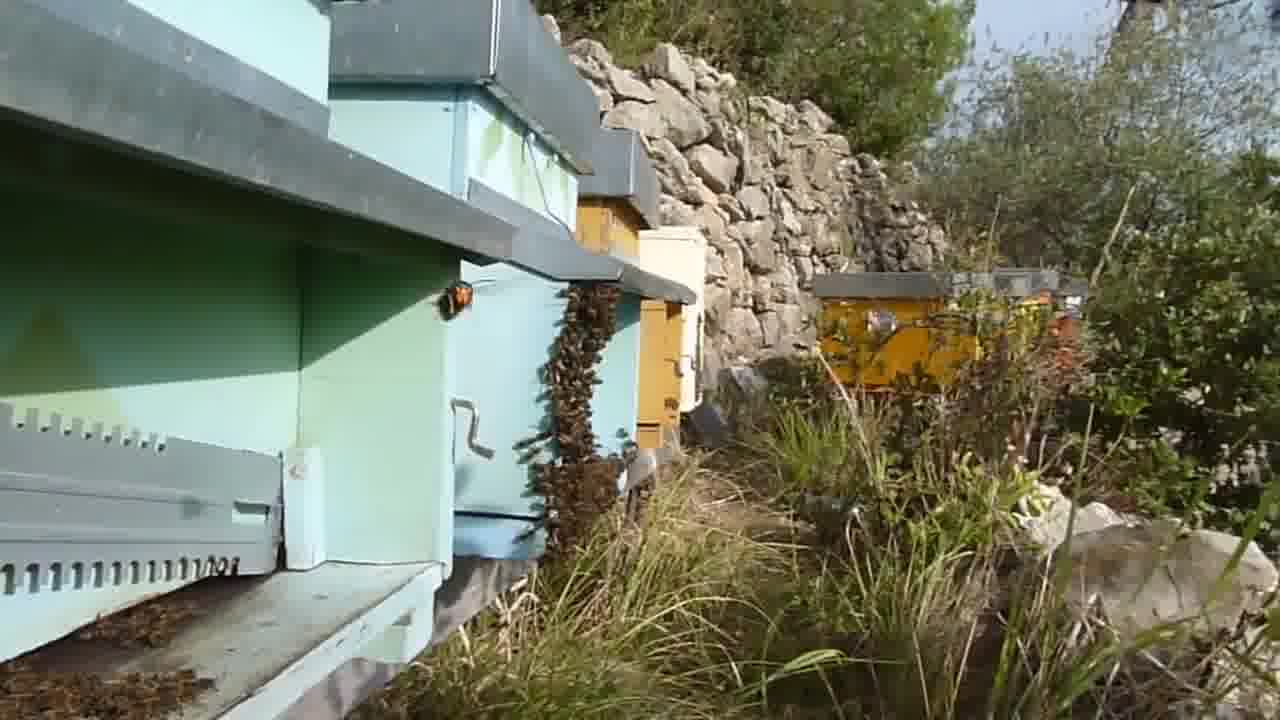bee: (7, 653, 216, 720), (536, 358, 606, 459), (528, 465, 624, 530), (557, 282, 619, 353), (103, 601, 184, 651)
hornet: (431, 274, 478, 326)
